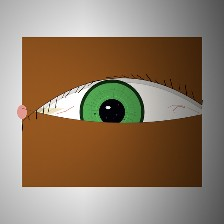pterygium_lesion: (22, 93, 69, 131)
